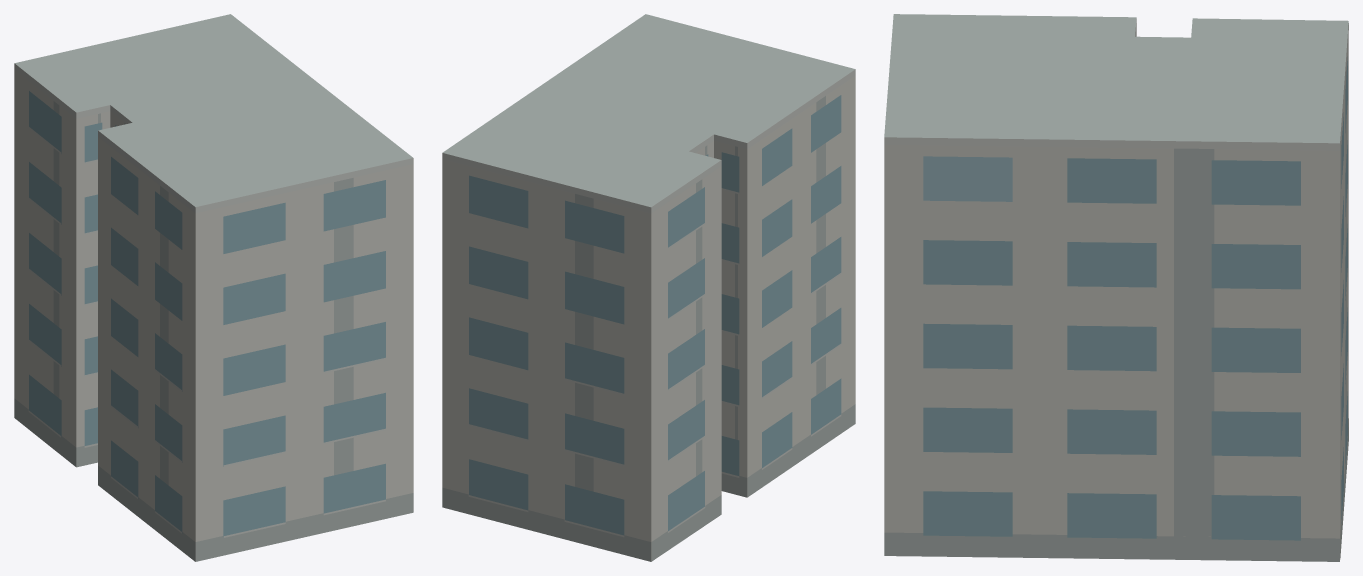
Rendered from survey-upis-32837777.glb.
The picture shows the model from 3 angles, left to right: view 1: azimuth 30°, elevation 25°; view 2: azimuth 150°, elevation 25°; view 3: azimuth 270°, elevation 25°; orthographic projection. The views are drawn at different scales.
Visible parts, largest first — view 1: survey-upis-32837777.tmp; view 2: survey-upis-32837777.tmp; view 3: survey-upis-32837777.tmp.
Boxes of the visible parts, x1,y1,x2,y2 form: survey-upis-32837777.tmp: (14,14,413,561); survey-upis-32837777.tmp: (442,14,855,561); survey-upis-32837777.tmp: (884,14,1348,561).
Size of the model in its own units: 9.15 by 13.8 by 13.89.
